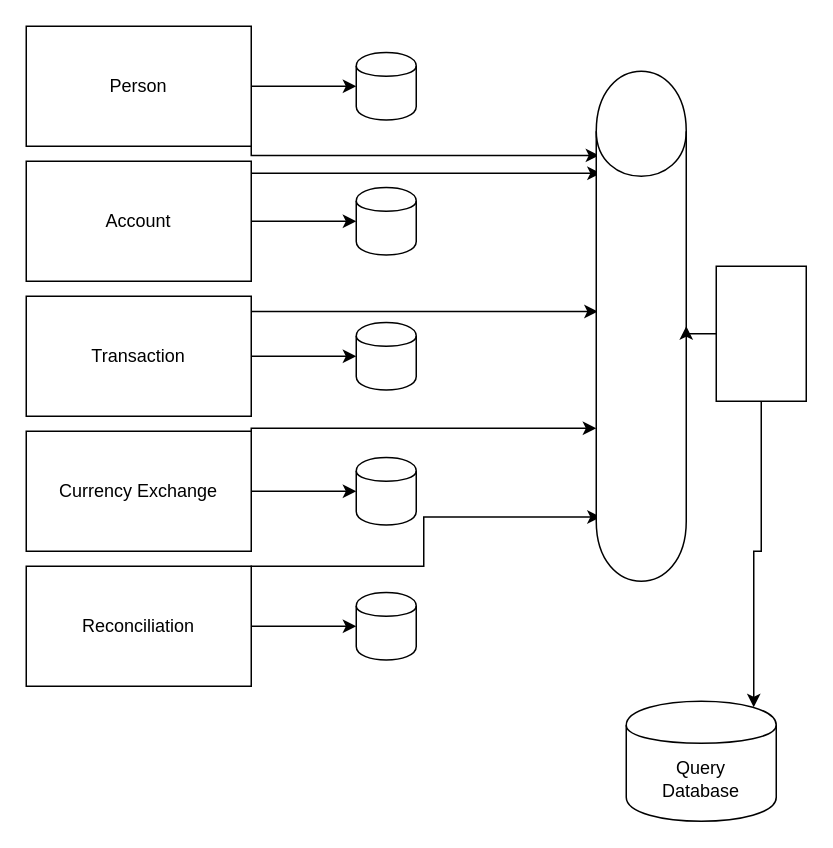
Some shapes in this 833 by 848 pixel diagram are drawn without their labels. The shapes that lost their labels are listed below. From the top down, each one's centre as x and y in pixels, then its label:
point 640,325: Event Bus
point 760,333: CQRS
